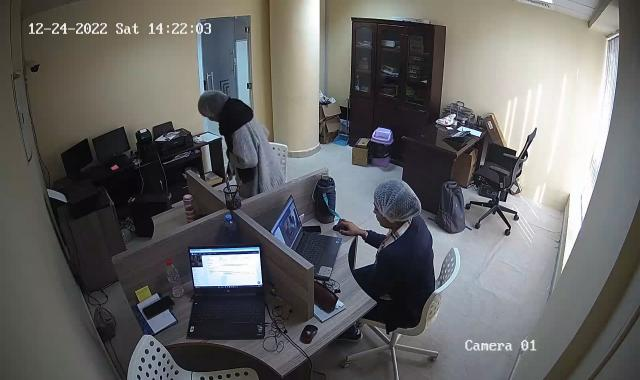hairnet: (370, 178, 421, 226), (194, 90, 228, 118)
